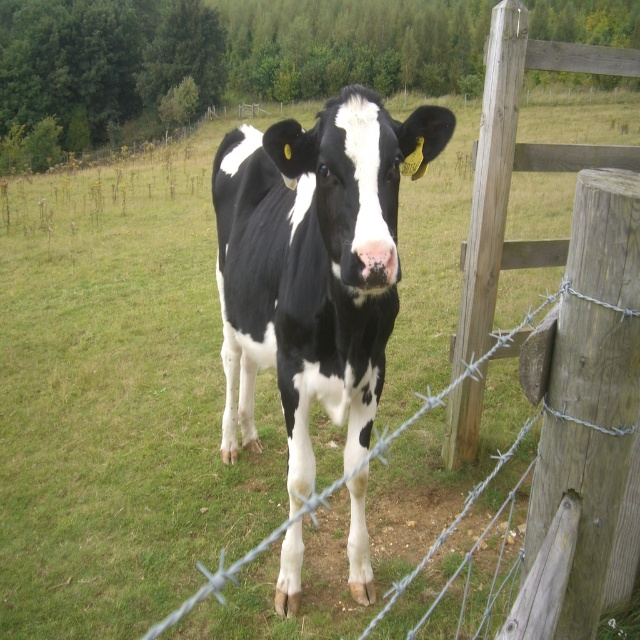Cattle: (211, 83, 456, 619)
